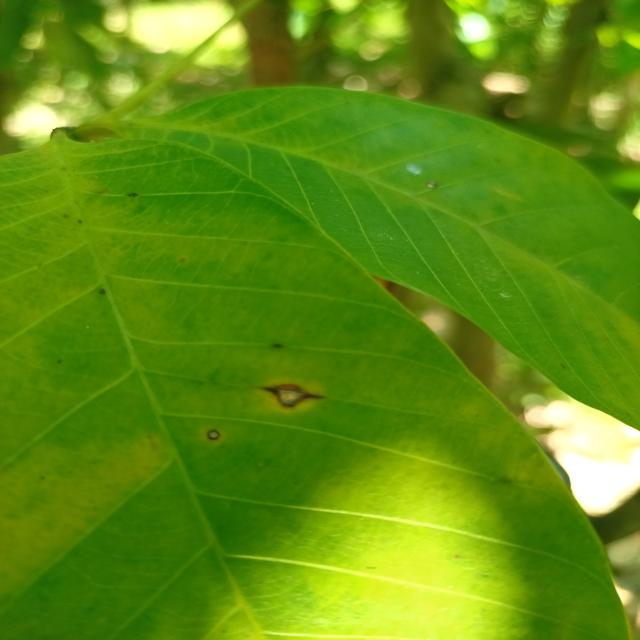Colletotrichum: (206, 430, 220, 440)
